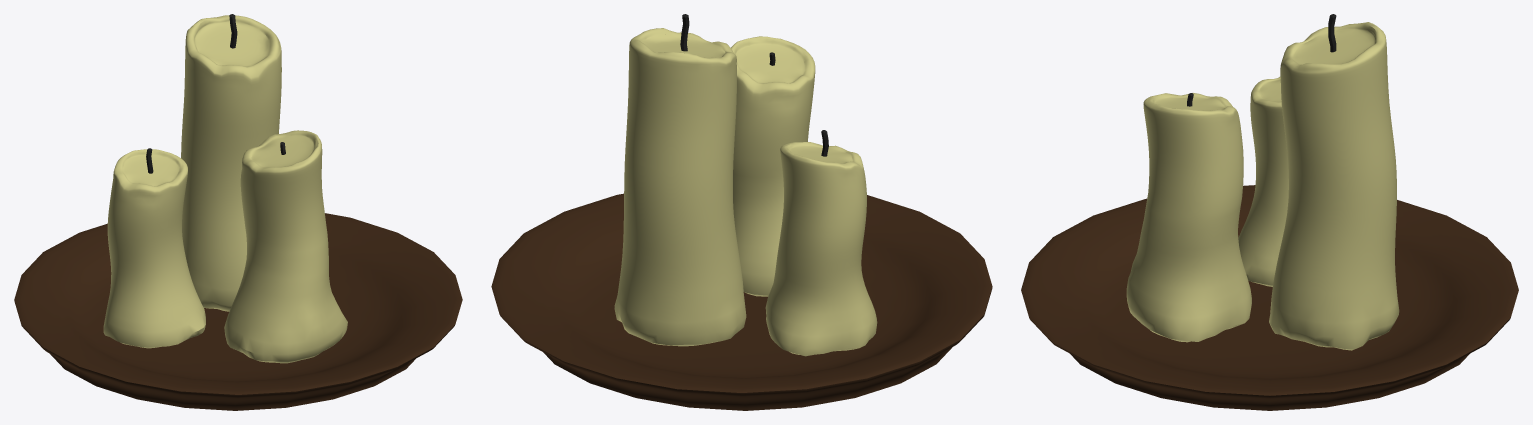
The model's file is candles tub_dani.fbx.
3 views of the same model, side by side, from view 1: azimuth 30°, elevation 25°; view 2: azimuth 150°, elevation 25°; view 3: azimuth 270°, elevation 25° (orthographic). The views are drawn at different scales.
Visible parts, largest first — view 1: Medium_candle; view 2: Medium_candle; view 3: Medium_candle.
Part boxes in pixels (bbox=[...]): Medium_candle: bbox=[14, 14, 462, 410]; Medium_candle: bbox=[491, 14, 992, 410]; Medium_candle: bbox=[1021, 14, 1518, 410].
Bounding box in the file's own units: 32.89 × 23 × 32.7.
